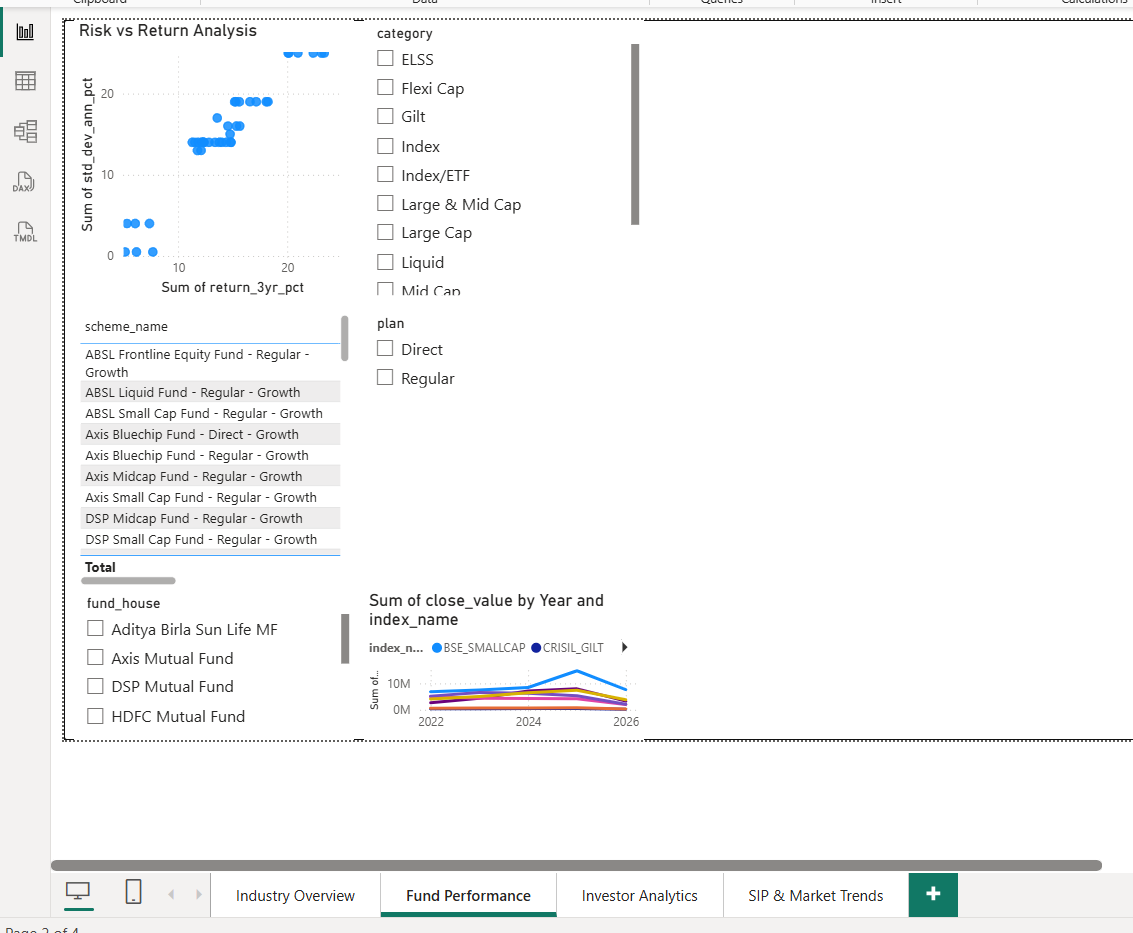

The page's visual inventory and layout, read from the dashboard file:
{"tool":"powerbi","page":{"name":"Fund Performance","canvas":[1280,720],"ordinal":1},"visuals":[{"type":"scatterChart","title":"Risk vs Return Analysis","fields":{"X":["Sum(07_scheme_performance_cleaned.return_3yr_pct)"],"Y":["Sum(07_scheme_performance_cleaned.std_dev_ann_pct)"],"Category":["07_scheme_performance_cleaned.scheme_name"]},"box":[10,0,280,280],"z":0},{"type":"tableEx","fields":{"Values":["07_scheme_performance_cleaned.scheme_name","Sum(07_scheme_performance_cleaned.return_3yr_pct)","Sum(07_scheme_performance_cleaned.sharpe_ratio)","Sum(07_scheme_performance_cleaned.alpha)","Sum(07_scheme_performance_cleaned.beta)"]},"box":[10,290,280,280],"z":1},{"type":"slicer","fields":{"Values":["07_scheme_performance_cleaned.fund_house"]},"box":[10,570,280,150],"z":2},{"type":"slicer","fields":{"Values":["07_scheme_performance_cleaned.category"]},"box":[300,0,280,280],"z":3},{"type":"slicer","fields":{"Values":["07_scheme_performance_cleaned.plan"]},"box":[300,290,280,280],"z":4},{"type":"lineChart","fields":{"Category":["10_benchmark_indices_cleaned.date.Variation.Date Hierarchy.Year","10_benchmark_indices_cleaned.date.Variation.Date Hierarchy.Quarter","10_benchmark_indices_cleaned.date.Variation.Date Hierarchy.Month","10_benchmark_indices_cleaned.date.Variation.Date Hierarchy.Day"],"Y":["Sum(10_benchmark_indices_cleaned.close_value)"],"Series":["10_benchmark_indices_cleaned.index_name"]},"box":[300,570,280,150],"z":5}]}

Visuals, with their boxes on the page's 1280x720 design canvas (x1, y1, x2, y2). These are canvas units, not pixel positions in the 1133x933 screenshot, which may show the page scaled, cropped or inside an application window:
"Risk vs Return Analysis" scatterChart: BBox(10, 0, 290, 280)
tableEx - 07_scheme_performance_cleaned.scheme_name x Sum(07_scheme_performance_cleaned.return_3yr_pct): BBox(10, 290, 290, 570)
slicer - 07_scheme_performance_cleaned.fund_house: BBox(10, 570, 290, 720)
slicer - 07_scheme_performance_cleaned.category: BBox(300, 0, 580, 280)
slicer - 07_scheme_performance_cleaned.plan: BBox(300, 290, 580, 570)
lineChart - 10_benchmark_indices_cleaned.date.Variation.Date Hierarchy.Year x 10_benchmark_indices_cleaned.date.Variation.Date Hierarchy.Quarter: BBox(300, 570, 580, 720)
